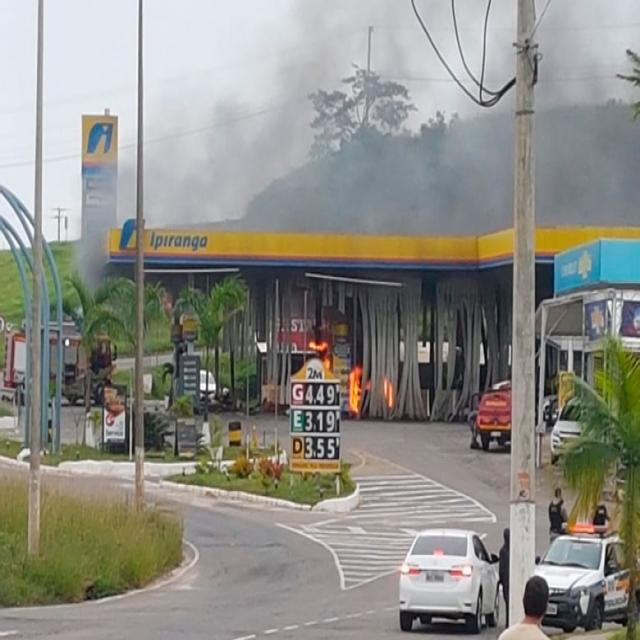Fire: (344, 364, 366, 414)
